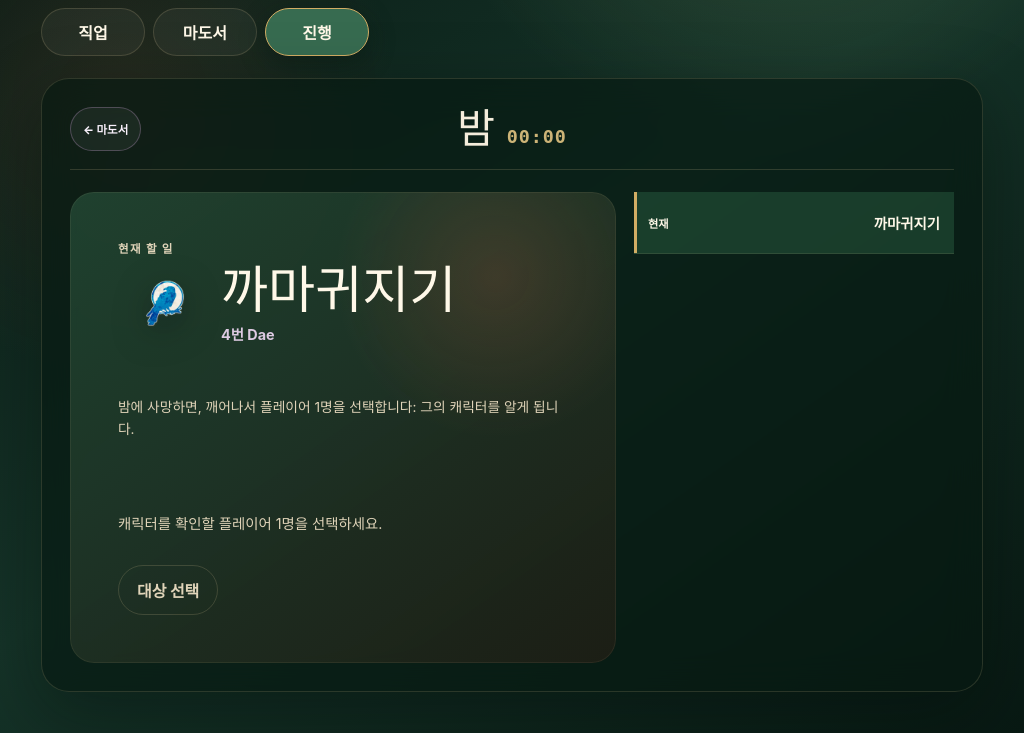
Test: uses semantic labels for the ravenkeeper target
(page scrolled)
Click the button "대상 선택". click: (168, 590)
box: left=118, top=565, right=218, bottom=615
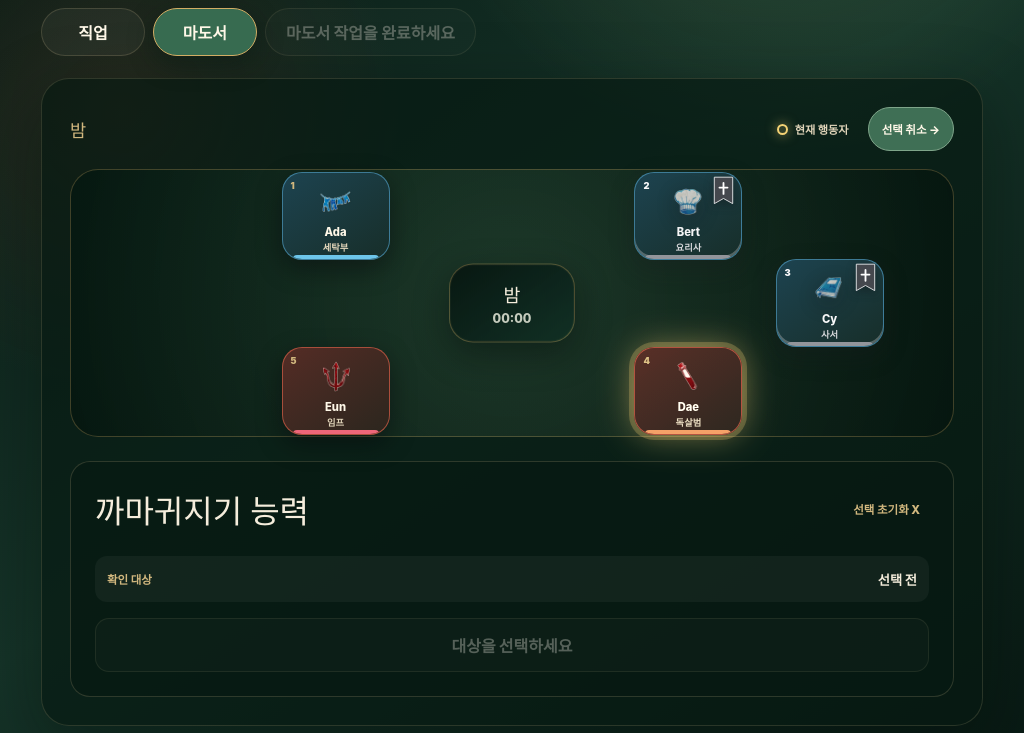
Click the button with aria-label "1번 좌석, Ada". click: (336, 216)
box: left=282, top=172, right=390, bottom=260
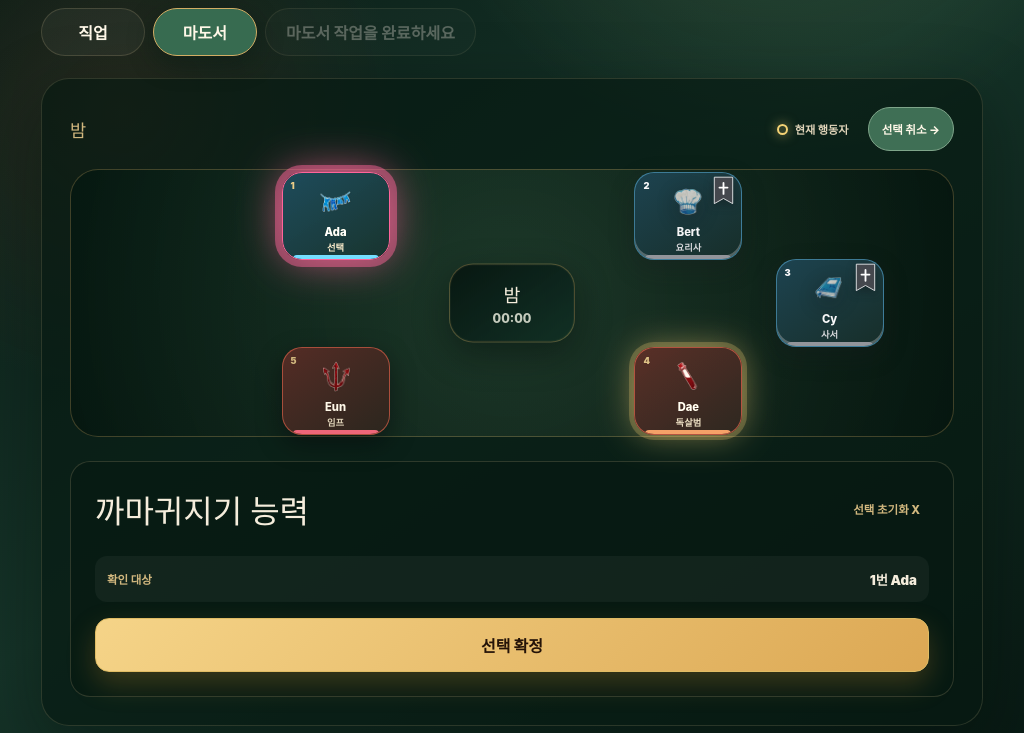
Expected: the heading "까마귀지기 능력" is shown, left=95, top=486, right=309, bottom=532
Expected: the text "확인 대상" is shown, left=107, top=571, right=152, bottom=587
Expected: the text "선택" is shown, left=327, top=242, right=344, bottom=253
